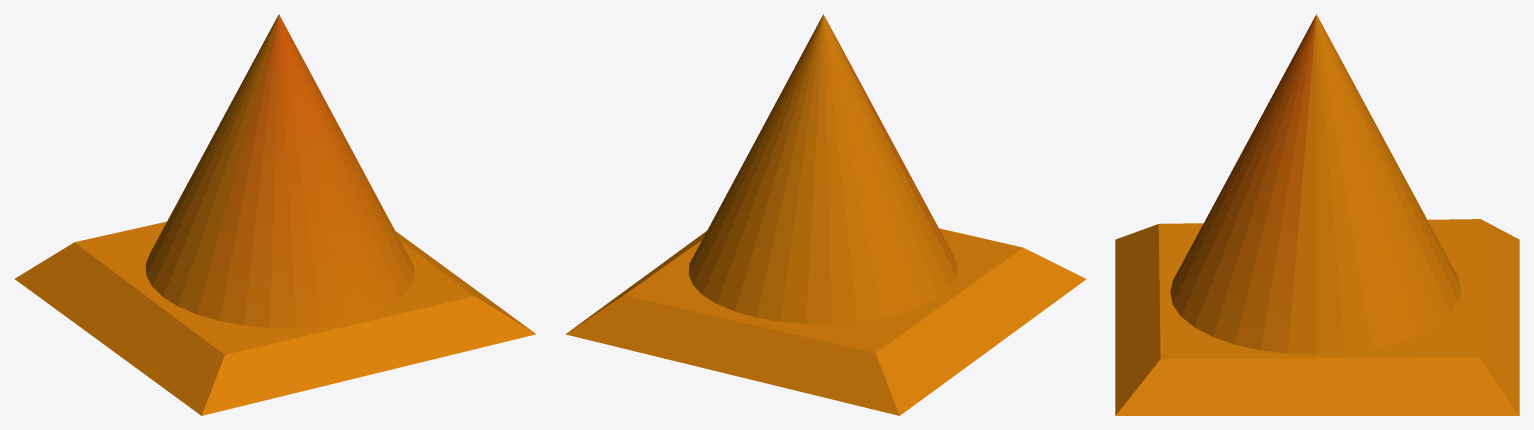
Rendered from cono con UV.final ;-;fbx 1.fbx.
3 views of the same model, side by side, from view 1: azimuth 30°, elevation 25°; view 2: azimuth 150°, elevation 25°; view 3: azimuth 270°, elevation 25° (orthographic). The views are drawn at different scales.
Parts seen in each view (by area): view 1: Cube.001; view 2: Cube.001; view 3: Cube.001.
Part boxes in pixels (bbox=[...]): Cube.001: bbox=[15, 14, 535, 415]; Cube.001: bbox=[565, 14, 1086, 415]; Cube.001: bbox=[1115, 14, 1519, 415].
Size of the model in its own units: 252 by 210 by 244.
